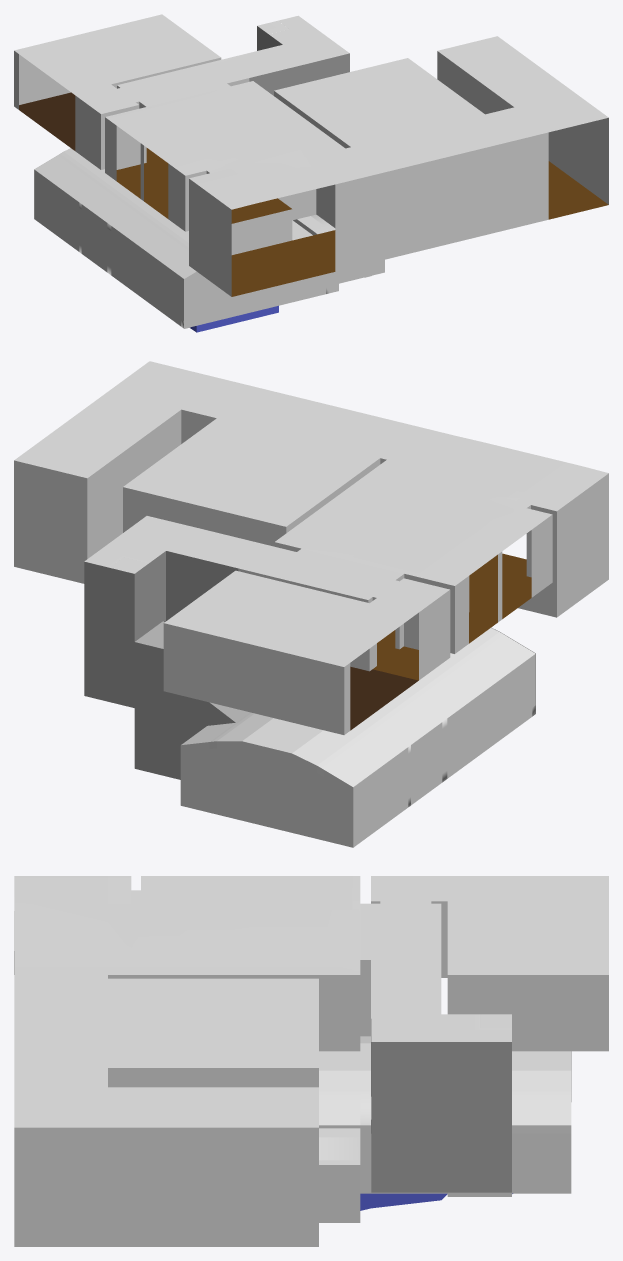
Rendered from new_journey_home.fbx.
3 views of the same model, one above another, from view 1: azimuth 30°, elevation 25°; view 2: azimuth 150°, elevation 25°; view 3: azimuth 270°, elevation 25° (orthographic). The views are drawn at different scales.
Parts seen in each view (by area): view 1: Entry hall, Roof; view 2: Entry hall, Roof; view 3: Roof, Entry hall.
Boxes of the visible parts, box(x1,y1,x2,y2) form: Entry hall: box(14, 26, 608, 332); Roof: box(14, 14, 608, 209); Entry hall: box(14, 409, 608, 847); Roof: box(14, 361, 608, 666); Roof: box(14, 876, 608, 1127); Entry hall: box(14, 901, 608, 1246).
Bounding box in the file's own units: 2542 × 1208 × 2540.
